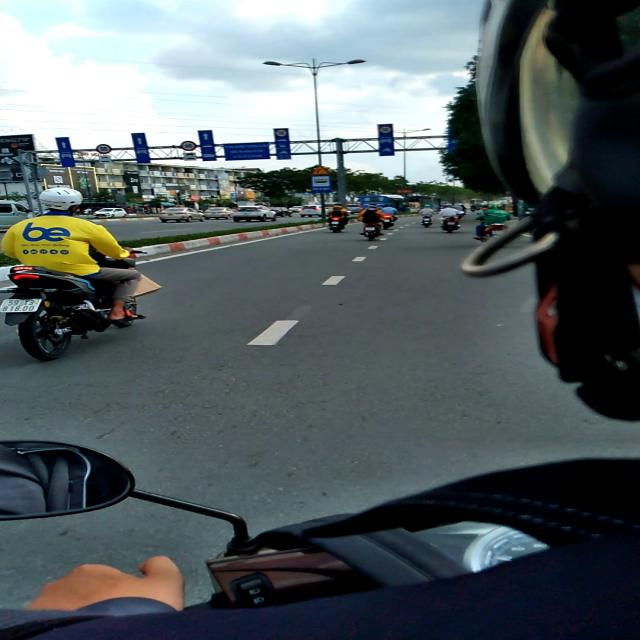P.127: (180, 141, 197, 151), (96, 144, 112, 154), (274, 129, 288, 137), (379, 125, 391, 134)
R.434: (311, 176, 331, 192)
W.201b: (310, 165, 330, 176)
